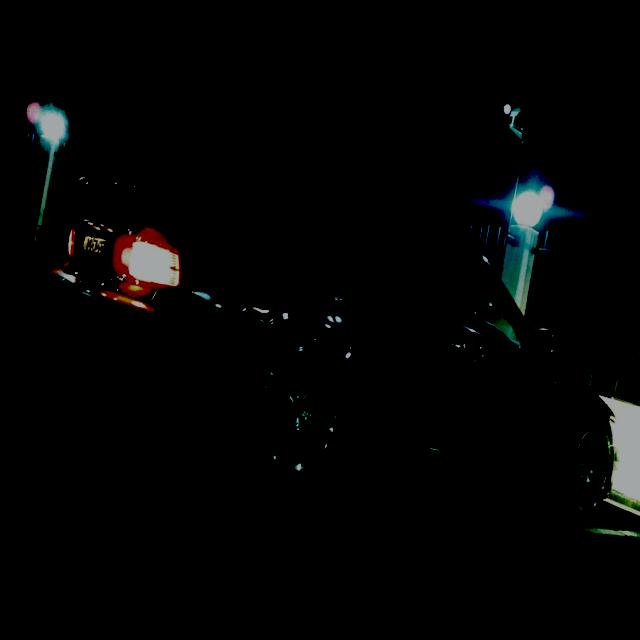Car: (60, 158, 612, 536)
